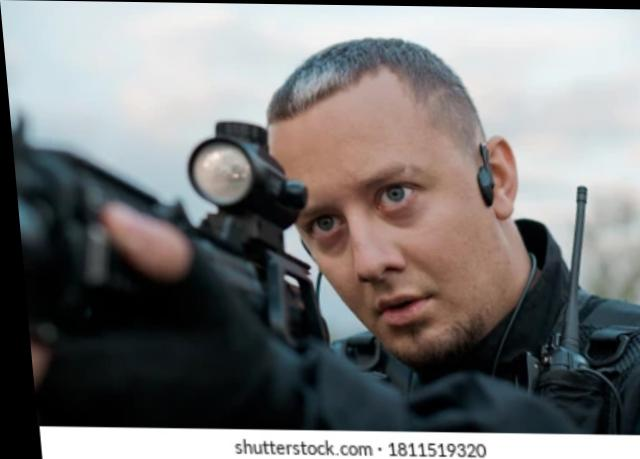other: (271, 45, 593, 422)
